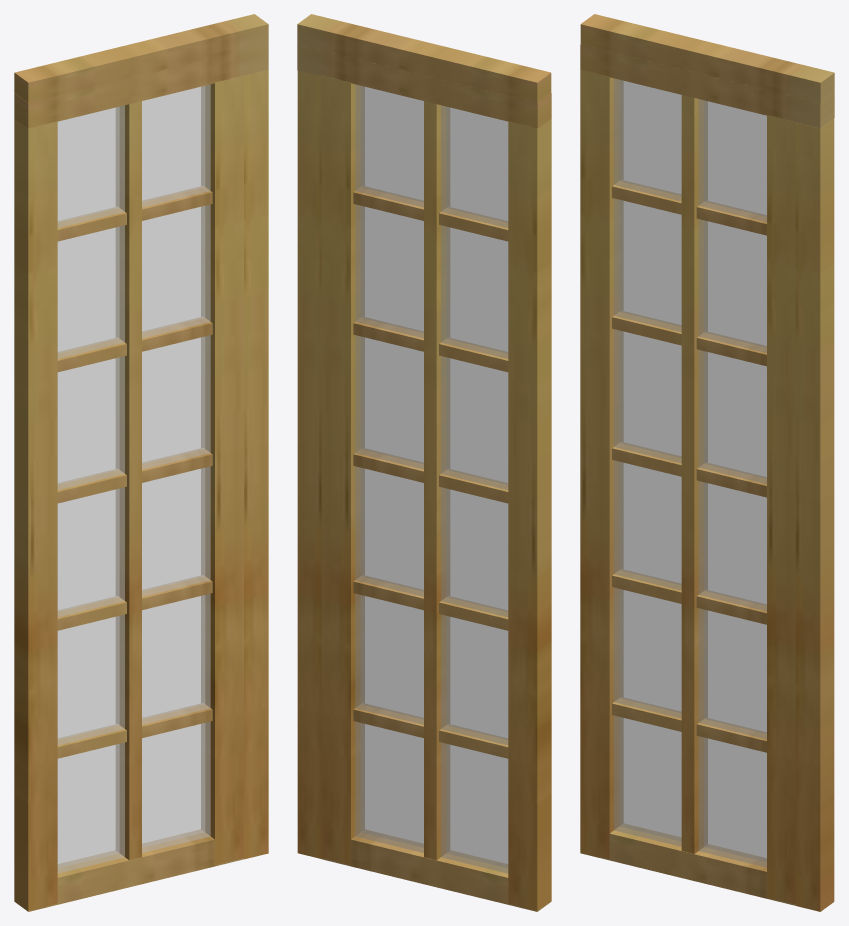
The model's file is sweethome3d-contributions-patio-side-door-272.glb.
The picture shows the model from 3 angles, left to right: view 1: azimuth 30°, elevation 25°; view 2: azimuth 150°, elevation 25°; view 3: azimuth 330°, elevation 25°; orthographic projection.
Visible parts, largest first — view 1: sweethome3d_window_pane, Cube_7, Cube_7_1, frame, Cube_4, frame_1, Cube_8, Cube_8_1, Cube_10_3, Cube_10, Cube_10_4, Cube_10_2 (+1 smaller); view 2: sweethome3d_window_pane, Cube_7, Cube_7_1, frame, Cube_4, frame_1, Cube_8, Cube_8_1, Cube_10_3, Cube_10, Cube_10_4, Cube_10_2 (+1 smaller); view 3: sweethome3d_window_pane, Cube_7, frame, Cube_7_1, Cube_4, frame_1, Cube_8, Cube_8_1, Cube_10_4, Cube_10_3, Cube_10, Cube_10_2 (+1 smaller).
Boxes of the visible parts, x1,y1,x2,y2 form: sweethome3d_window_pane: (57,84,210,873); Cube_7: (14,119,57,910); Cube_7_1: (201,75,244,864); frame: (244,70,268,859); Cube_4: (116,101,141,860); frame_1: (14,14,268,102); Cube_8: (14,44,268,128); Cube_8_1: (14,829,243,911); Cube_10_3: (57,575,212,630); Cube_10: (57,186,212,241); Cube_10_4: (57,703,212,758); Cube_10_2: (57,448,212,503); sweethome3d_window_pane: (355,84,508,873); Cube_7: (508,119,551,910); Cube_7_1: (321,75,364,864); frame: (297,70,321,858); Cube_4: (424,101,449,860); frame_1: (297,14,551,103); Cube_8: (297,44,551,128); Cube_8_1: (322,830,551,911); Cube_10_3: (353,575,508,630); Cube_10: (353,186,508,241); Cube_10_4: (353,703,508,758); Cube_10_2: (353,448,508,503); sweethome3d_window_pane: (614,78,766,867); Cube_7: (580,70,623,858); frame: (795,118,834,911); Cube_7_1: (767,115,795,904); Cube_4: (681,95,707,853); frame_1: (580,14,834,103); Cube_8: (580,44,834,128); Cube_8_1: (580,824,795,905); Cube_10_4: (612,697,766,752); Cube_10_3: (612,569,766,624); Cube_10: (612,180,766,235); Cube_10_2: (612,442,766,497).
Size of the model in its own units: 4.51 by 14.87 by 0.4622.
Materials: 2 (1 with a texture image).
